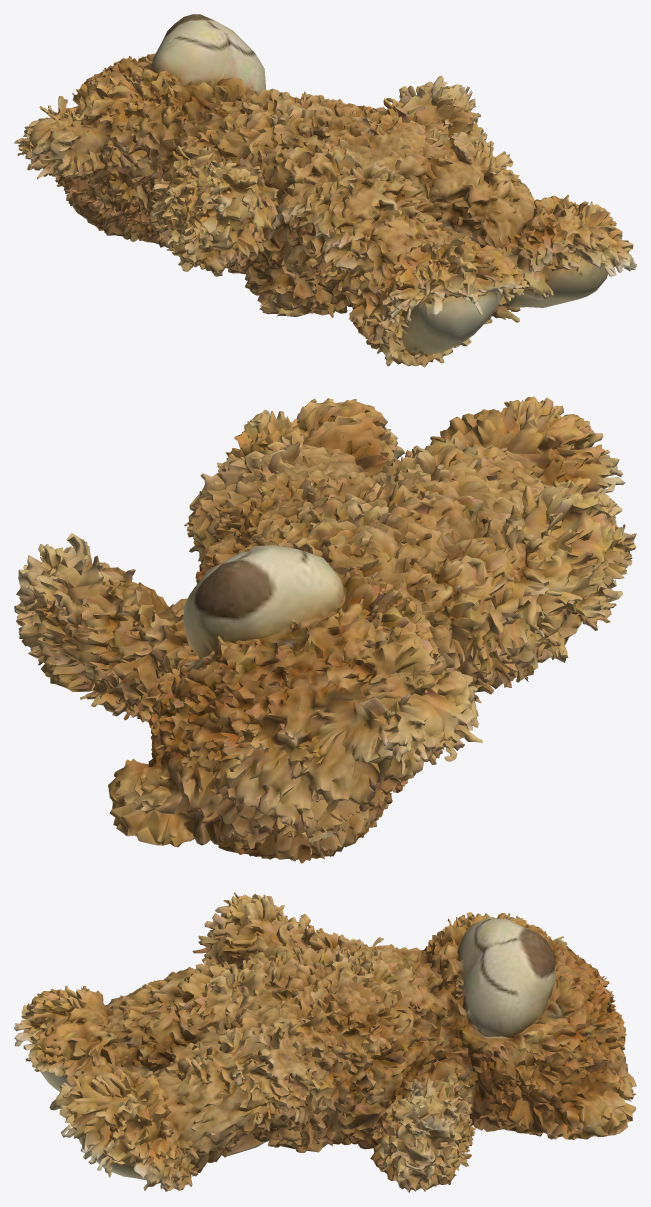
File: teddy-scan.glb
The picture shows the model from 3 angles, top to bottom: view 1: azimuth 30°, elevation 25°; view 2: azimuth 150°, elevation 25°; view 3: azimuth 270°, elevation 25°; orthographic projection. The views are drawn at different scales.
Parts seen in each view (by area): view 1: Lovable_Huggable_Cuddly_Boutique_Teddy_Bear_Beige; view 2: Lovable_Huggable_Cuddly_Boutique_Teddy_Bear_Beige; view 3: Lovable_Huggable_Cuddly_Boutique_Teddy_Bear_Beige.
Boxes of the visible parts, bbox=[...] form: Lovable_Huggable_Cuddly_Boutique_Teddy_Bear_Beige: bbox=[14, 14, 636, 367]; Lovable_Huggable_Cuddly_Boutique_Teddy_Bear_Beige: bbox=[14, 396, 636, 863]; Lovable_Huggable_Cuddly_Boutique_Teddy_Bear_Beige: bbox=[14, 892, 636, 1192].
Bounding box in the file's own units: 0.2687 × 0.1237 × 0.3706.
Materials: 1 (1 with a texture image).
